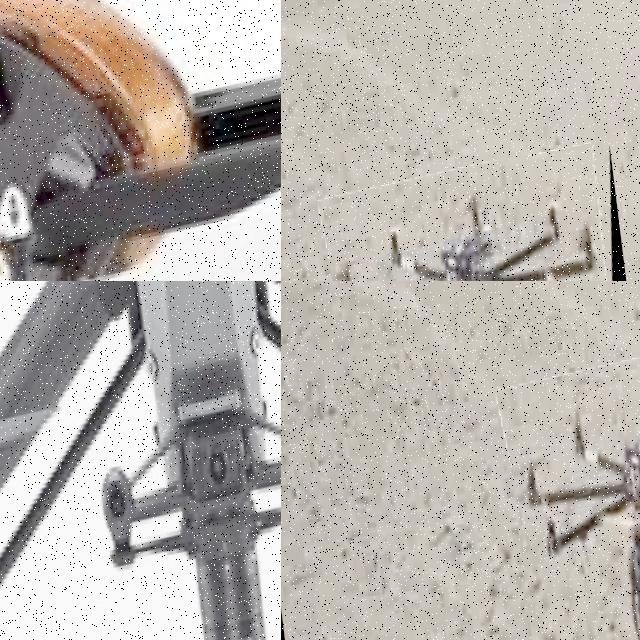drone: (0, 281, 281, 640), (0, 0, 281, 281), (319, 145, 640, 281), (498, 335, 640, 640)
